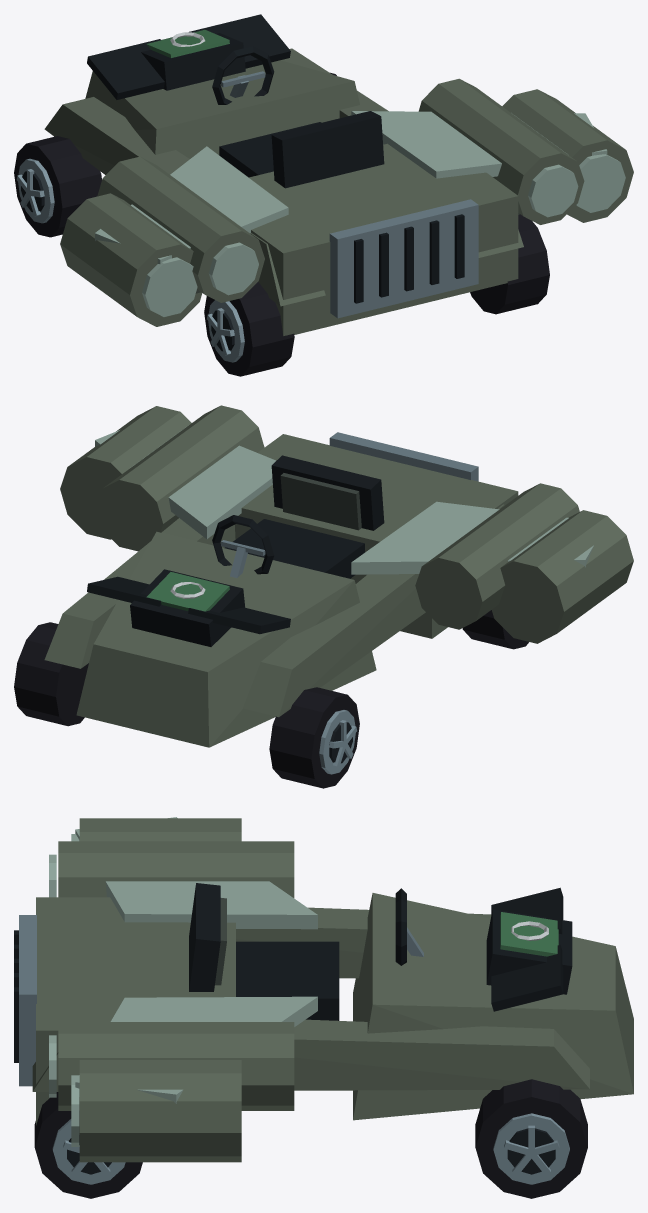
File: kart.glb
3 views of the same model, one above another, from view 1: azimuth 30°, elevation 25°; view 2: azimuth 150°, elevation 25°; view 3: azimuth 270°, elevation 25° (orthographic). The views are drawn at different scales.
Visible parts, largest first — view 1: identity-dropship-dropship-armored-cargo-fuselage, identity-dropship-motif-engine-pods, identity-dropship-motif-wings, identity-dropship-driver-cockpit, wheel-front-left, wheel-rear-left, identity-dropship-motif-scanner, wheel-rear-right; view 2: identity-dropship-dropship-armored-cargo-fuselage, identity-dropship-motif-engine-pods, identity-dropship-driver-cockpit, identity-dropship-motif-wings, wheel-front-left, identity-dropship-motif-scanner, wheel-front-right, wheel-rear-left; view 3: identity-dropship-dropship-armored-cargo-fuselage, identity-dropship-motif-engine-pods, identity-dropship-motif-wings, identity-dropship-driver-cockpit, wheel-front-right, wheel-rear-right, identity-dropship-motif-scanner.
Boxes of the visible parts, x1=… form: identity-dropship-dropship-armored-cargo-fuselage: x1=44, y1=14, x2=633, y2=335; identity-dropship-motif-engine-pods: x1=97, y1=78, x2=584, y2=302; identity-dropship-motif-wings: x1=95, y1=111, x2=607, y2=263; identity-dropship-driver-cockpit: x1=212, y1=46, x2=384, y2=188; wheel-front-left: x1=14, y1=136, x2=101, y2=237; wheel-rear-left: x1=204, y1=282, x2=294, y2=376; identity-dropship-motif-scanner: x1=141, y1=29, x2=245, y2=90; wheel-rear-right: x1=470, y1=214, x2=549, y2=314; identity-dropship-dropship-armored-cargo-fuselage: x1=44, y1=406, x2=633, y2=747; identity-dropship-motif-engine-pods: x1=96, y1=405, x2=579, y2=629; identity-dropship-driver-cockpit: x1=212, y1=455, x2=384, y2=578; identity-dropship-motif-wings: x1=95, y1=425, x2=593, y2=574; wheel-front-left: x1=269, y1=687, x2=359, y2=788; identity-dropship-motif-scanner: x1=130, y1=569, x2=245, y2=646; wheel-front-right: x1=14, y1=622, x2=88, y2=726; wheel-rear-left: x1=462, y1=610, x2=528, y2=649; identity-dropship-dropship-armored-cargo-fuselage: x1=14, y1=818, x2=633, y2=1162; identity-dropship-motif-engine-pods: x1=49, y1=841, x2=294, y2=1110; identity-dropship-motif-wings: x1=75, y1=817, x2=317, y2=1103; identity-dropship-driver-cockpit: x1=189, y1=883, x2=423, y2=1020; wheel-front-right: x1=475, y1=1079, x2=587, y2=1198; wheel-rear-right: x1=34, y1=1092, x2=142, y2=1198; identity-dropship-motif-scanner: x1=486, y1=909, x2=572, y2=994.
Bounding box in the file's own units: 3 × 1.09 × 2.76.
